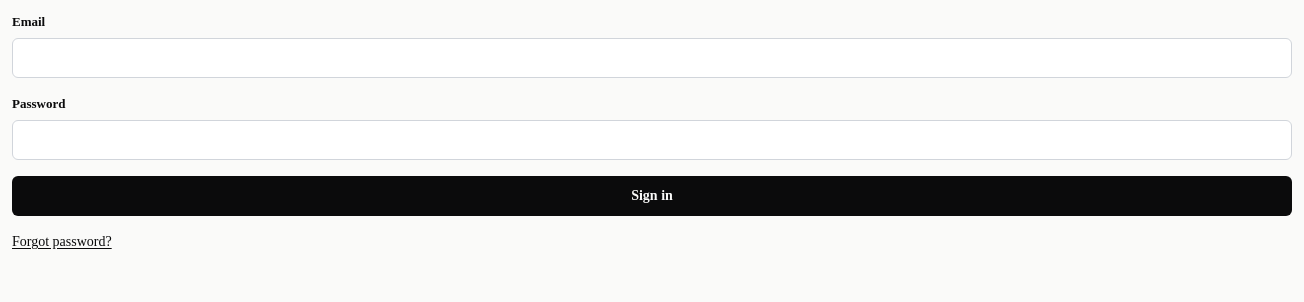
Test: SignInForm › a sign-in that failed for another reason does not blame the password
Type "ana@usp.br" into the field labelled "Email" at (652, 58), box [12,38,1292,78]
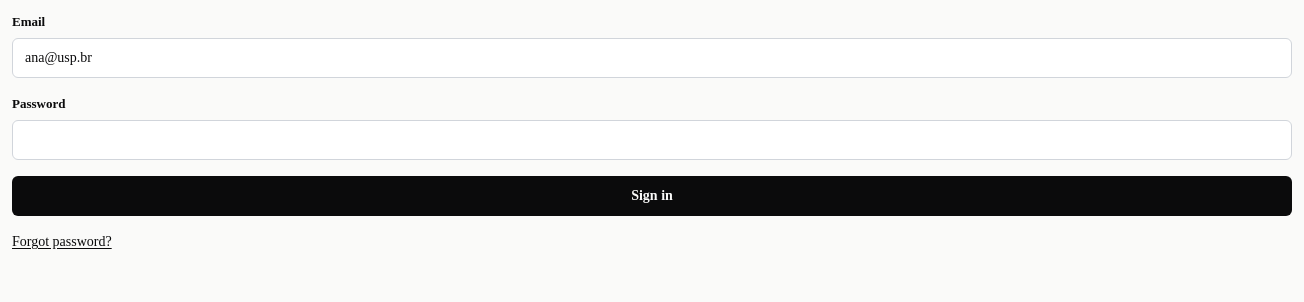
Type "a long password" into the password field labelled "Password" at (652, 140), box [12,120,1292,160]
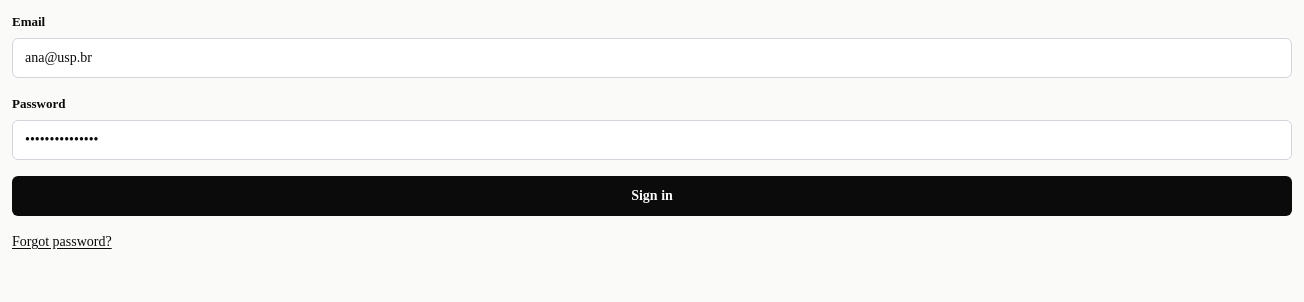
Click the button "Sign in" at (652, 196), box [12,176,1292,216]
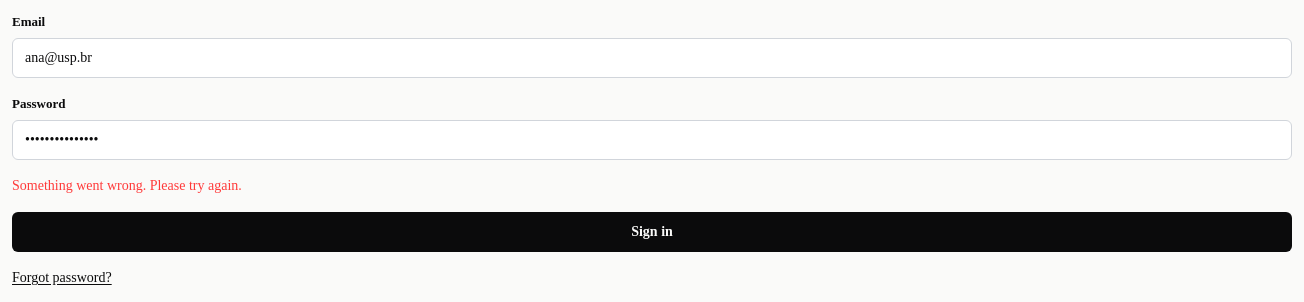
Expected: the message reads "Something went wrong. Please try again.", [12,178,242,193]
